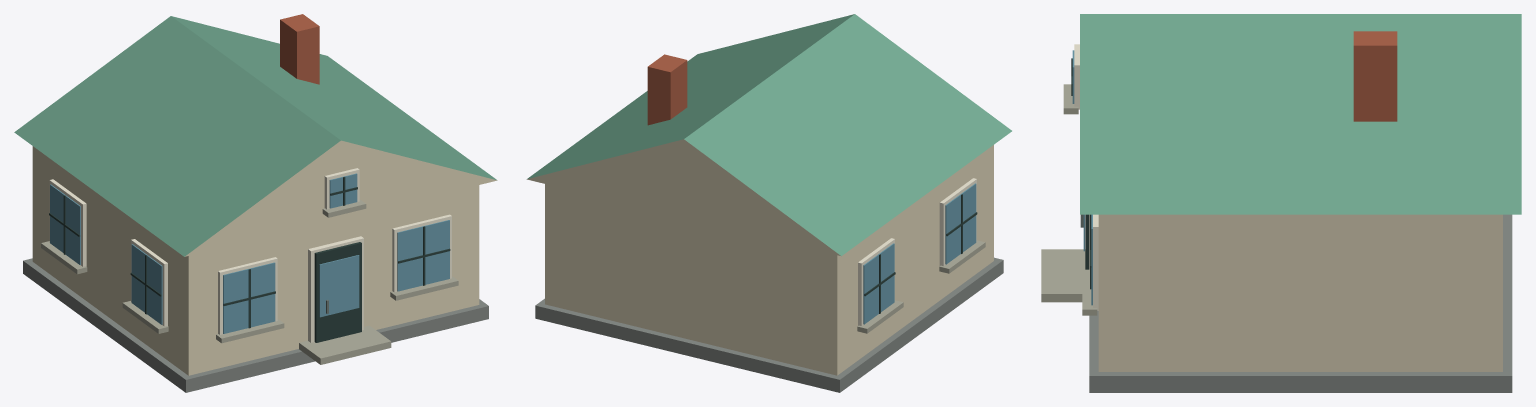
File: HouseCream.obj
3 renders of one model, left to right at view 1: azimuth 30°, elevation 25°; view 2: azimuth 150°, elevation 25°; view 3: azimuth 270°, elevation 25°, orthographic. The views are drawn at different scales.
Parts seen in each view (by area): view 1: HouseCream; view 2: HouseCream; view 3: HouseCream.
Part boxes in pixels (bbox=[...]): HouseCream: bbox=[14, 14, 497, 392]; HouseCream: bbox=[526, 14, 1011, 392]; HouseCream: bbox=[1041, 14, 1521, 392].
Bounding box in the file's own units: 7.55 × 5.4 × 7.72.
